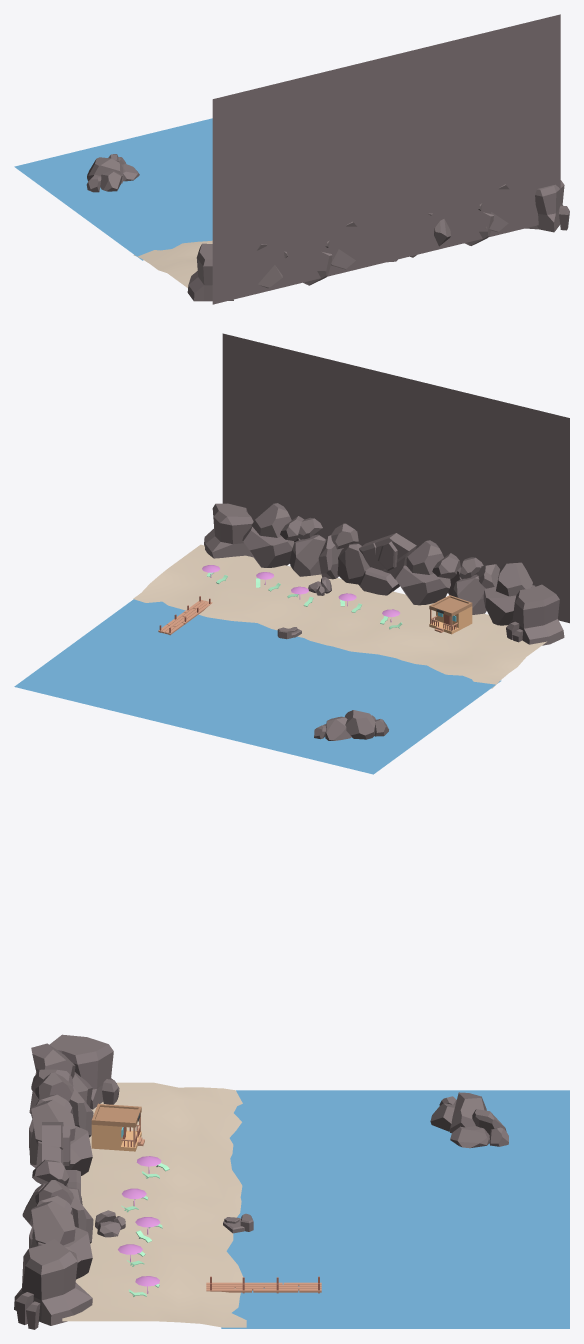
The model's file is level_1.fbx.
The picture shows the model from 3 angles, top to bottom: view 1: azimuth 30°, elevation 25°; view 2: azimuth 150°, elevation 25°; view 3: azimuth 270°, elevation 25°; orthographic projection. The views are drawn at different scales.
Parts seen in each view (by area): view 1: deniz.001, deniz, kum, Rock_Type6_03_mesh.002, Rock_Type6_03_mesh.001, Rock_Type2_01_mesh.001, Rock_Type2_02_mesh.004, Rock_Type2_01_mesh.003; view 2: deniz.001, deniz, kum, Rock_Type2_01_mesh.002, Rock_Type6_03_mesh.001, Rock_Type2_01_mesh.004, Rock_Type1_03_mesh.002, Rock_Type2_01_mesh.003, Rock_Type2_02_mesh.003, Rock_Type6_03_mesh.002, Rock_Type2_02_mesh.005, kafe (+4 smaller); view 3: deniz, kum, Rock_Type6_03_mesh.002, Rock_Type6_03_mesh.001, Rock_Type2_01_mesh.004, Rock_Type2_01_mesh.002, kafe, Rock_Type2_01_mesh.003, Rock_Type2_02_mesh.001, Rock_Type2_01_mesh.001, Rock_Type2_02_mesh.004, Rock_Type1_03_mesh.002 (+3 smaller).
Boxes of the visible parts, bbox=[...] form: deniz.001: bbox=[212, 14, 560, 304]; deniz: bbox=[14, 118, 212, 260]; kum: bbox=[133, 240, 212, 287]; Rock_Type6_03_mesh.002: bbox=[525, 180, 569, 232]; Rock_Type6_03_mesh.001: bbox=[187, 243, 233, 301]; Rock_Type2_01_mesh.001: bbox=[86, 157, 123, 192]; Rock_Type2_02_mesh.004: bbox=[303, 251, 332, 285]; Rock_Type2_01_mesh.003: bbox=[257, 244, 288, 288]; deniz.001: bbox=[222, 333, 569, 623]; deniz: bbox=[14, 599, 501, 774]; kum: bbox=[133, 544, 546, 688]; Rock_Type2_01_mesh.002: bbox=[394, 540, 460, 605]; Rock_Type6_03_mesh.001: bbox=[506, 584, 564, 645]; Rock_Type2_01_mesh.004: bbox=[242, 503, 303, 567]; Rock_Type1_03_mesh.002: bbox=[359, 533, 416, 595]; Rock_Type2_01_mesh.003: bbox=[477, 562, 535, 625]; Rock_Type2_02_mesh.003: bbox=[318, 523, 369, 584]; Rock_Type6_03_mesh.002: bbox=[204, 503, 253, 558]; Rock_Type2_02_mesh.005: bbox=[289, 517, 326, 576]; kafe: bbox=[429, 595, 472, 634]; deniz: bbox=[221, 1090, 569, 1328]; kum: bbox=[62, 1082, 246, 1327]; Rock_Type6_03_mesh.002: bbox=[14, 1239, 92, 1329]; Rock_Type6_03_mesh.001: bbox=[49, 1034, 119, 1109]; Rock_Type2_01_mesh.004: bbox=[31, 1195, 92, 1279]; Rock_Type2_01_mesh.002: bbox=[29, 1094, 92, 1175]; kafe: bbox=[91, 1103, 144, 1151]; Rock_Type2_01_mesh.003: bbox=[29, 1043, 92, 1113]; Rock_Type2_02_mesh.001: bbox=[450, 1109, 508, 1148]; Rock_Type2_01_mesh.001: bbox=[430, 1092, 486, 1133]; Rock_Type2_02_mesh.004: bbox=[29, 1072, 93, 1149]; Rock_Type1_03_mesh.002: bbox=[42, 1122, 80, 1194].
Bounding box in the file's own units: 10165 × 5836 × 9830.
